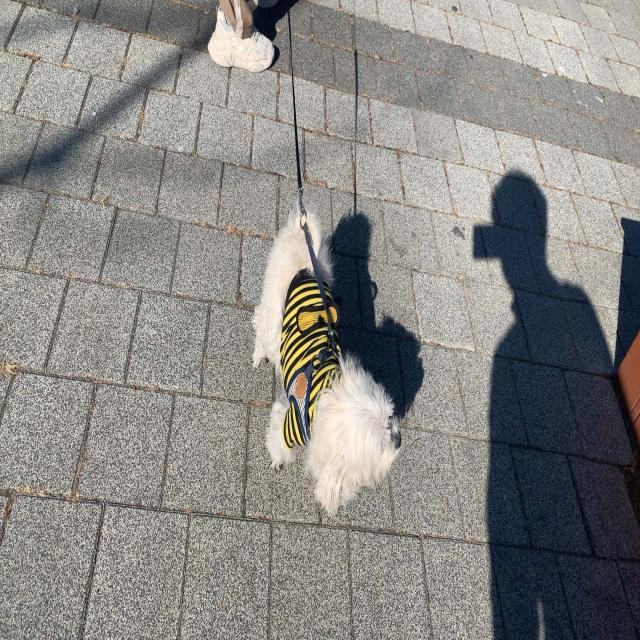Dog: (252, 195, 402, 520)
